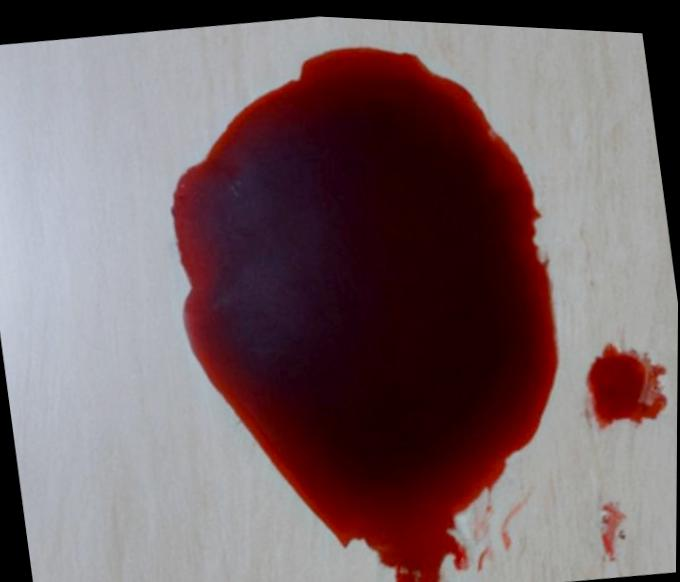Fire: (171, 41, 561, 582), (586, 335, 670, 423), (601, 496, 629, 555)
